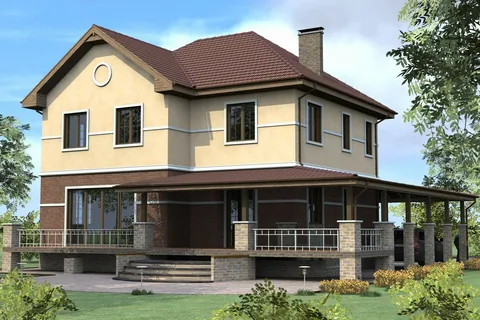private_hause: (42, 26, 388, 249)
